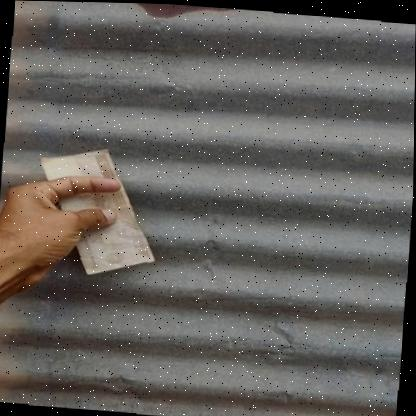five-back-vef: (32, 143, 162, 278)
